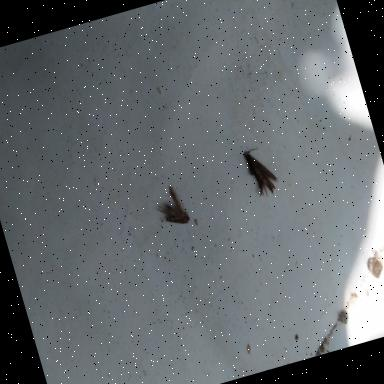pbw: (240, 143, 284, 201), (152, 182, 192, 232)
